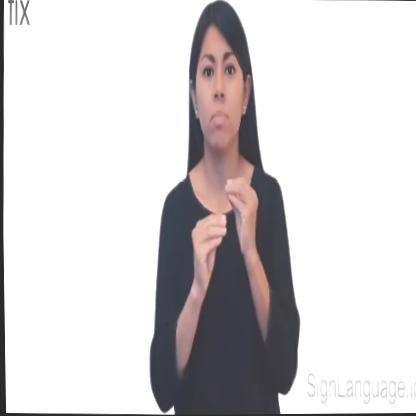Fix: (142, 5, 304, 415)
